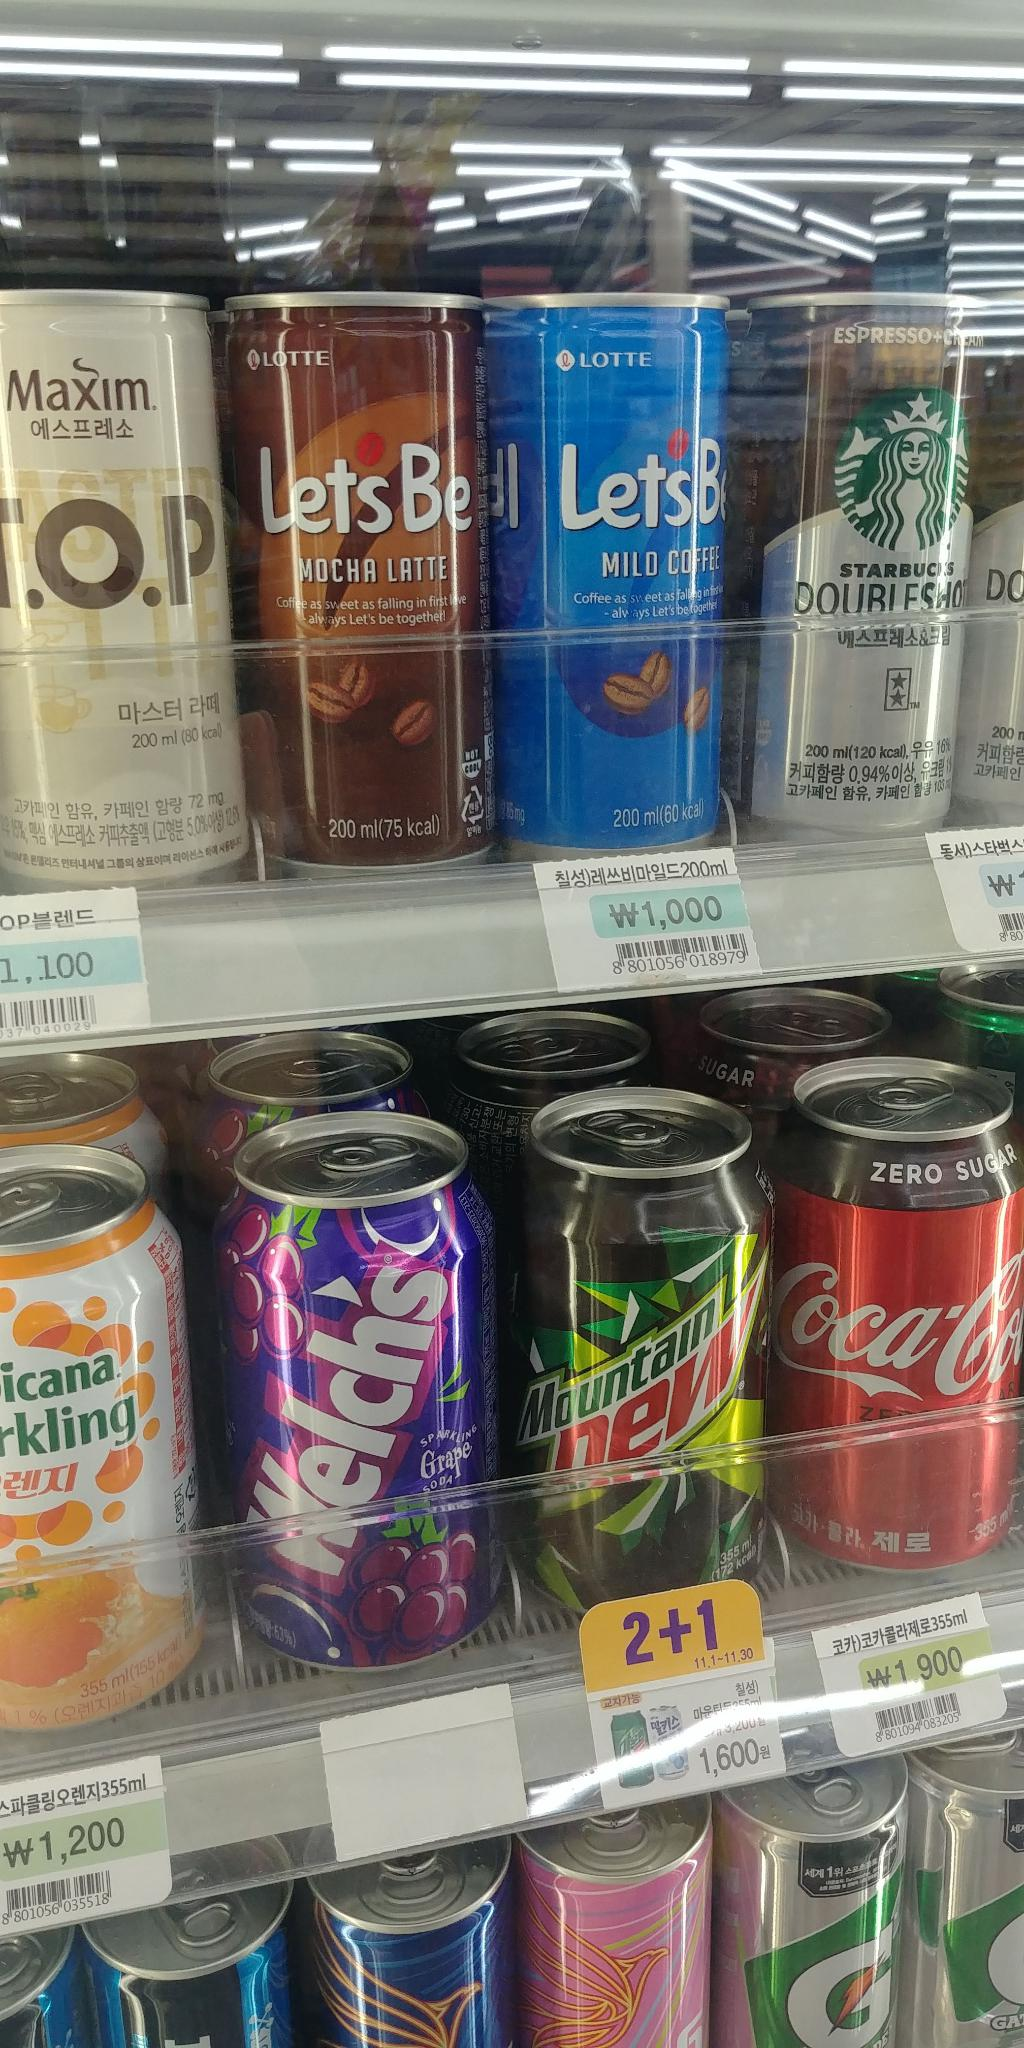letsbe: (481, 287, 735, 866)
welchs_grape: (230, 1078, 488, 1686)
